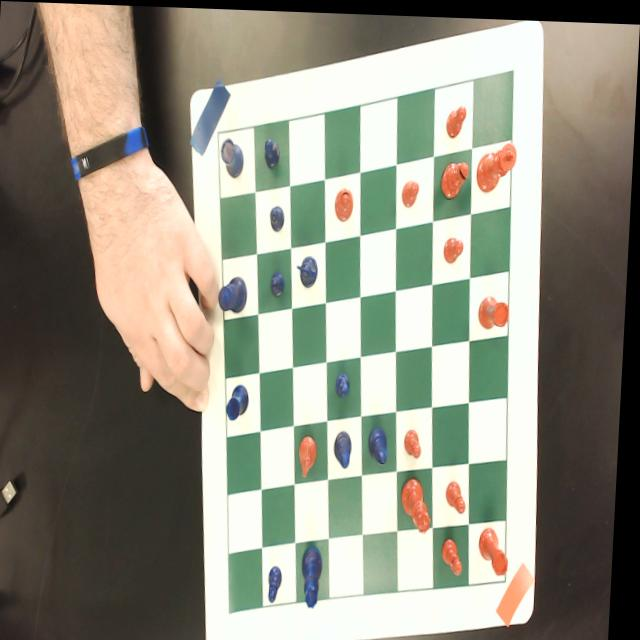B: (371, 421, 392, 461), (337, 426, 357, 465)
K: (219, 272, 251, 311)
N: (298, 249, 321, 288)
P: (273, 562, 288, 600), (264, 136, 281, 167), (270, 201, 287, 230), (272, 266, 288, 295), (338, 366, 353, 396)
Q: (305, 542, 329, 606)
R: (219, 135, 246, 177), (228, 380, 254, 420)
b: (441, 154, 471, 196), (334, 183, 356, 220)
k: (476, 137, 518, 190)
n: (301, 431, 322, 475)
p: (445, 533, 469, 572), (449, 476, 472, 511), (446, 100, 467, 135), (406, 425, 427, 455), (444, 233, 466, 260), (402, 174, 421, 205)
q: (404, 472, 437, 530)
r: (482, 523, 514, 572), (480, 290, 512, 326)
